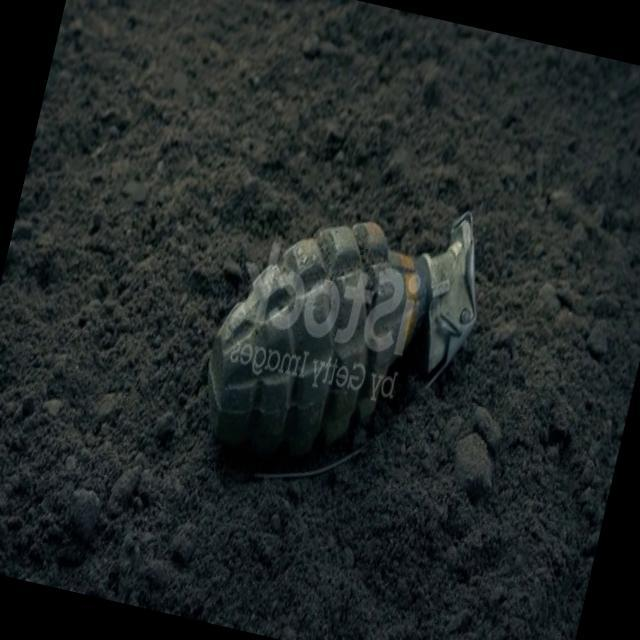grenade: (177, 151, 498, 525)
